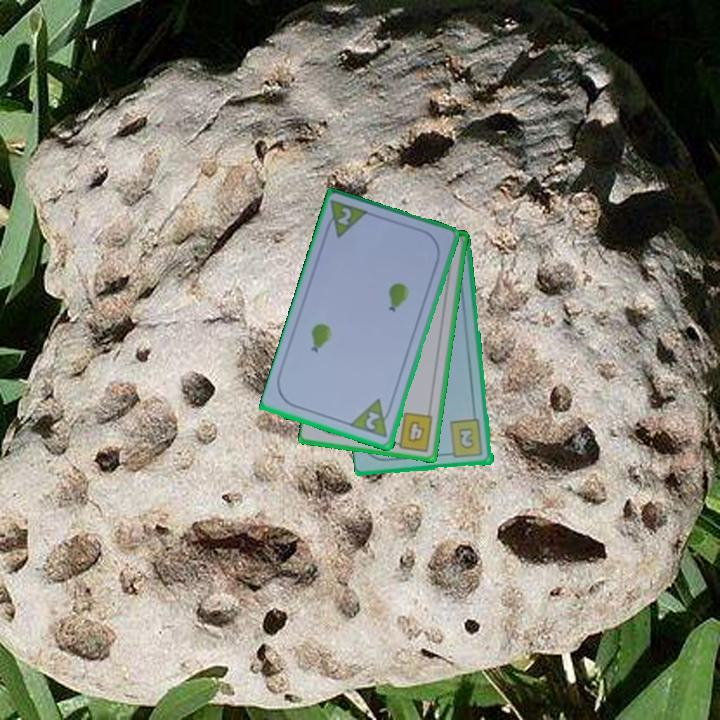2b: (444, 416, 486, 461)
2p: (348, 396, 396, 441), (334, 204, 355, 229)
4b: (389, 409, 436, 454)
